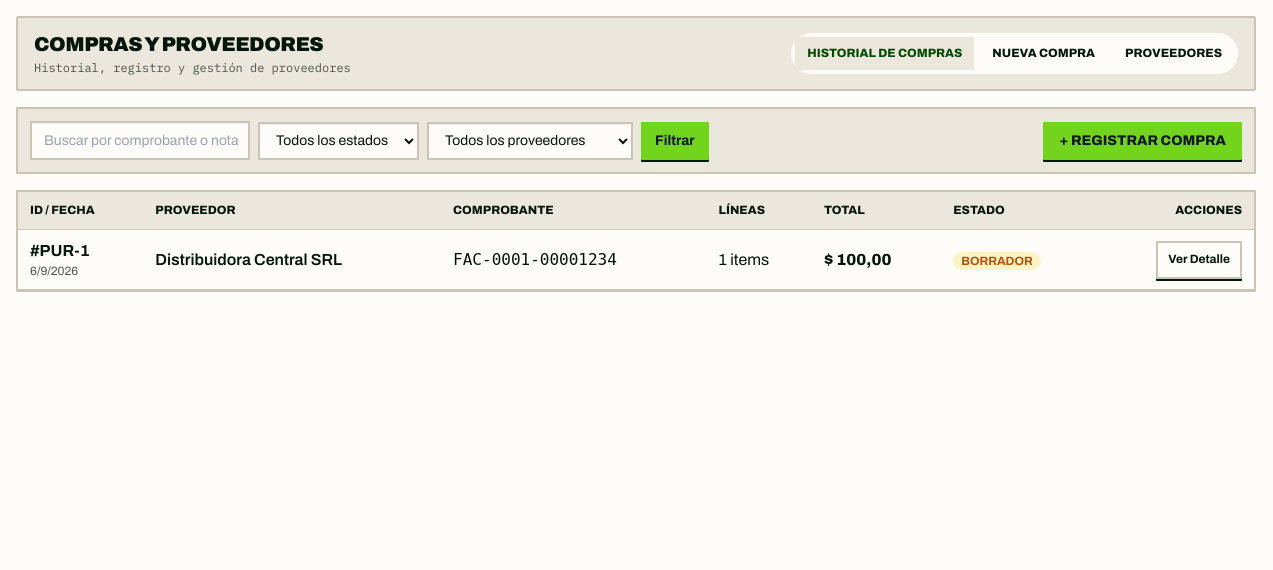
it: PurchasesScreen Component - Vertical Slice 5 UI › renders PurchasesScreen for OWNER, loads data and switches subtabs
Expected: the tab with test id "subtab-purchases-list" is shown, [795,37,974,70]
Expected: the tab with test id "subtab-purchases-create" is shown, [980,37,1107,70]
// Switch to suppliers tab
Click the tab with test id "subtab-purchases-suppliers": (1174, 53) [1113,37,1234,70]
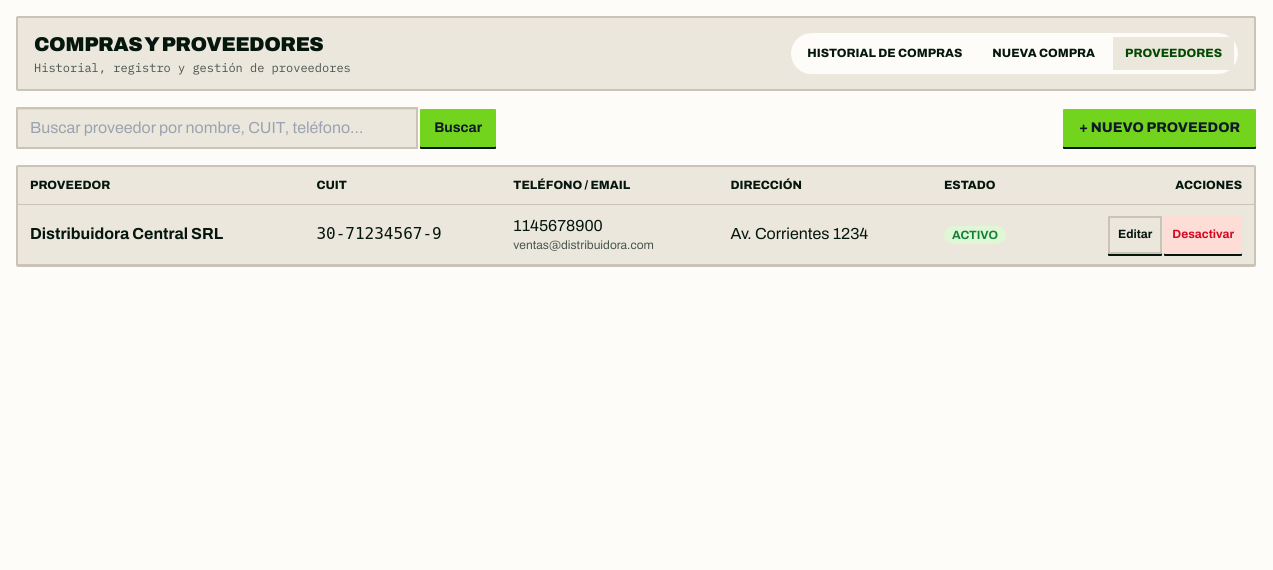
Expected: the row with test id "supplier-row-sup-1" is shown, [18,204,1254,265]
// Switch to new purchase tab
Click the tab with test id "subtab-purchases-create": (1044, 53) [980,37,1107,70]
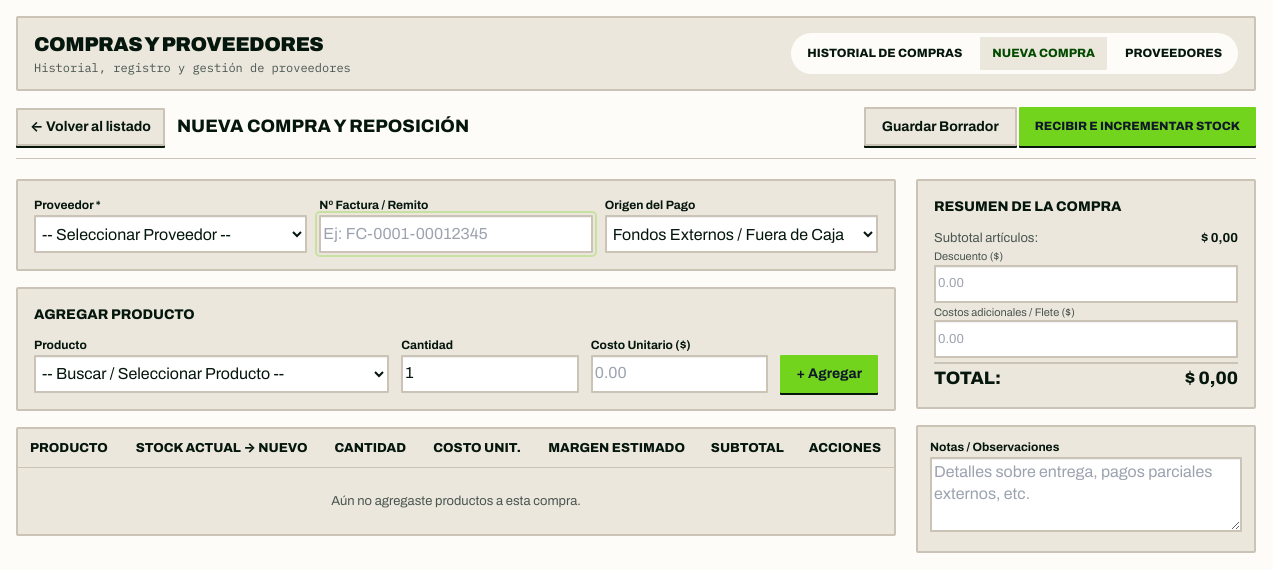
Expected: the dropdown with test id "purchase-editor-supplier-select" is shown, [34,215,307,253]
Expected: the button with test id "save-draft-btn" is shown, [864,107,1017,146]
